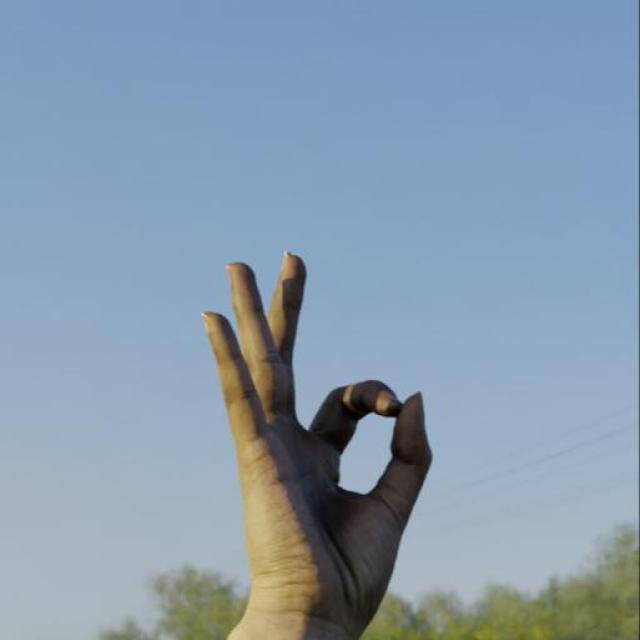F: (193, 248, 437, 620)
